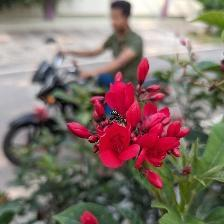jatropha: (98, 122, 139, 170)
